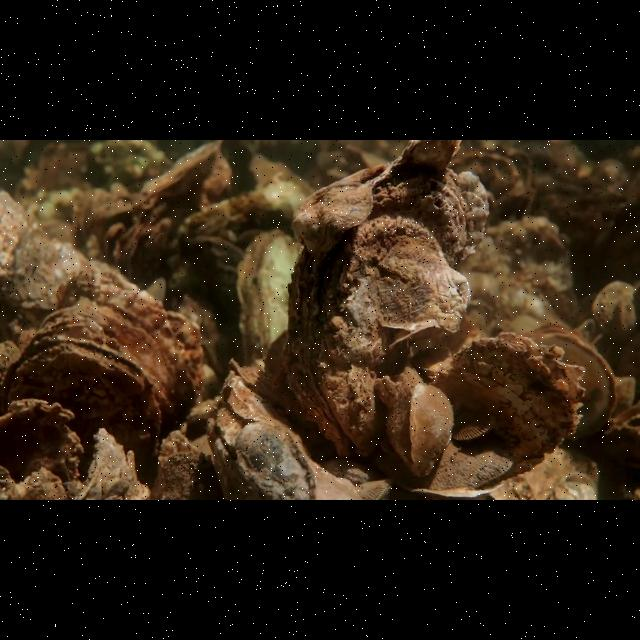Oyster-Closed: (284, 140, 491, 462), (32, 264, 203, 438), (0, 331, 165, 497), (425, 331, 589, 486), (219, 357, 341, 469), (236, 226, 301, 387), (386, 367, 454, 478), (396, 439, 517, 499), (232, 421, 319, 500), (205, 408, 266, 500), (451, 412, 501, 441)
